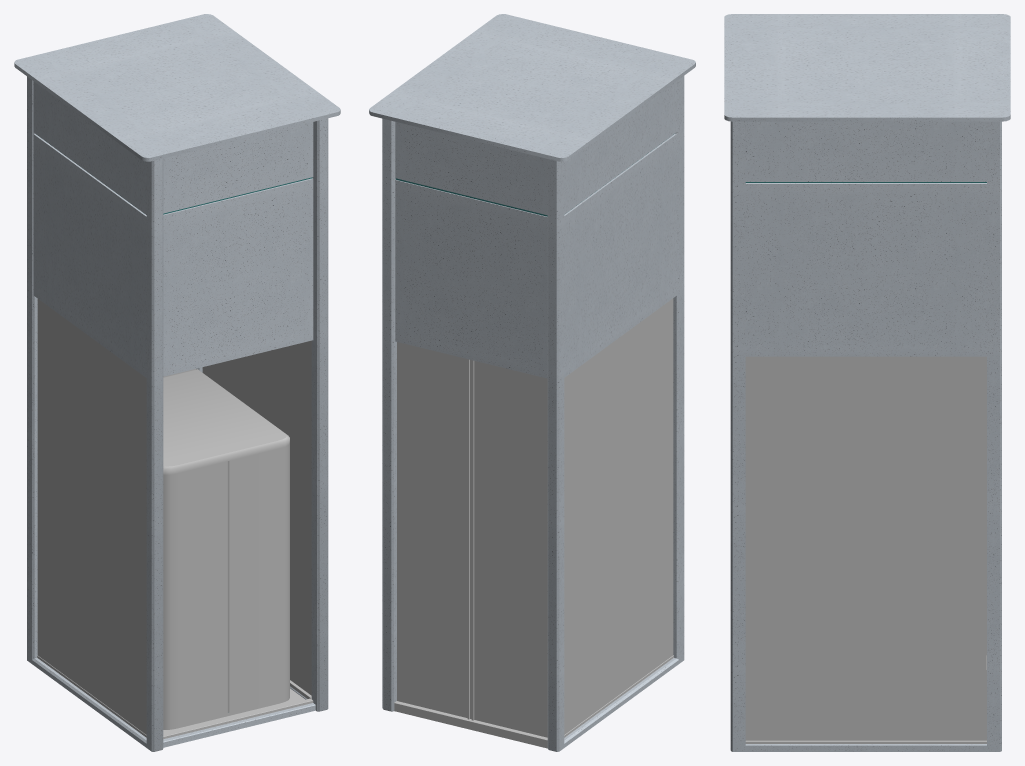
File: M_W_PillarEV_001.fbx
3 views of the same model, side by side, from view 1: azimuth 30°, elevation 25°; view 2: azimuth 150°, elevation 25°; view 3: azimuth 270°, elevation 25° (orthographic). The views are drawn at different scales.
Parts seen in each view (by area): view 1: M_W_PillarEV_001, M_W_PillarEV_001_glass; view 2: M_W_PillarEV_001, M_W_PillarEV_001_glass; view 3: M_W_PillarEV_001, M_W_PillarEV_001_glass.
Boxes of the visible parts, x1,y1,x2,y2 form: M_W_PillarEV_001: [14, 14, 340, 751]; M_W_PillarEV_001_glass: [37, 299, 311, 734]; M_W_PillarEV_001: [369, 14, 695, 751]; M_W_PillarEV_001_glass: [397, 298, 673, 737]; M_W_PillarEV_001: [724, 14, 1010, 751]; M_W_PillarEV_001_glass: [745, 356, 986, 740].
Bounding box in the file's own units: 2.78 × 8 × 3.25.
